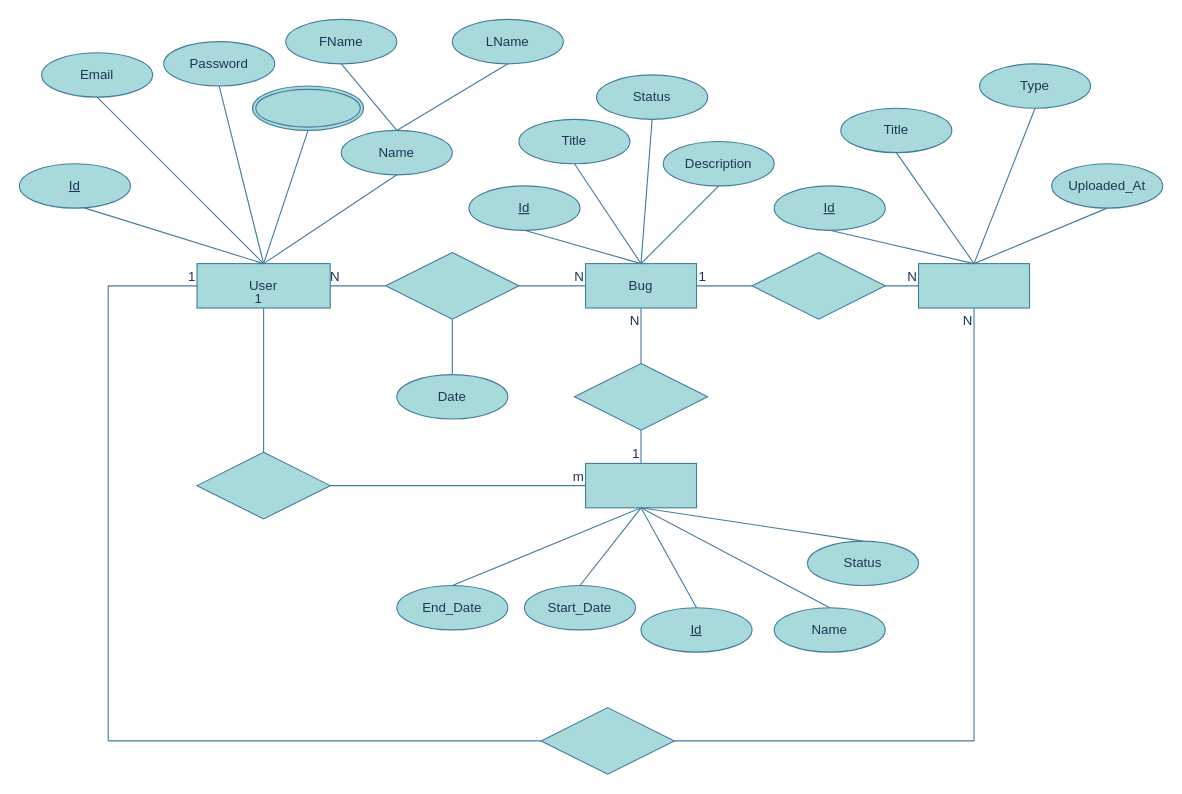
The diagram is 1182 pixels wide and 794 high, and some of its shapes have lost their labels. Here are the shapes that lost their labels. From the top down, the box of each, then its label:
(251, 85, 364, 130): Role
(385, 251, 519, 319): assigned to
(751, 251, 885, 319): linked to
(917, 263, 1030, 308): Attachment
(573, 362, 708, 430): belongs to
(196, 451, 330, 519): Manage
(584, 462, 697, 508): Project
(540, 707, 674, 774): upload
